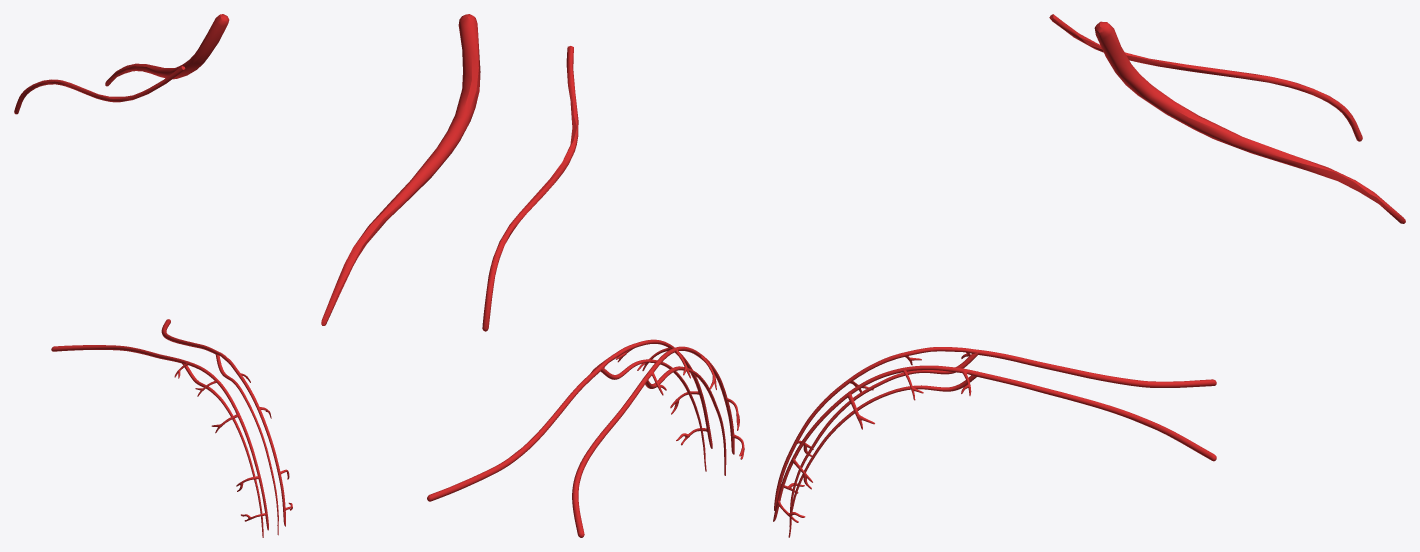
Rendered from arteries.pelvis.glb.
3 renders of one model, left to right at view 1: azimuth 30°, elevation 25°; view 2: azimuth 150°, elevation 25°; view 3: azimuth 270°, elevation 25°, orthographic. The views are drawn at different scales.
Parts seen in each view (by area): view 1: right_dorsal_artery_of_penis, left_dorsal_artery_of_penis, left_internal_iliac_artery, superior_rectal_artery; view 2: left_internal_iliac_artery, left_dorsal_artery_of_penis, right_dorsal_artery_of_penis, superior_rectal_artery; view 3: left_internal_iliac_artery, left_dorsal_artery_of_penis, right_dorsal_artery_of_penis, superior_rectal_artery.
Part boxes in pixels (x1=…): right_dorsal_artery_of_penis: x1=51, y1=345, x2=268, y2=537; left_dorsal_artery_of_penis: x1=161, y1=319, x2=292, y2=535; left_internal_iliac_artery: x1=105, y1=14, x2=229, y2=86; superior_rectal_artery: x1=14, y1=66, x2=185, y2=114; left_internal_iliac_artery: x1=321, y1=14, x2=480, y2=325; left_dorsal_artery_of_penis: x1=427, y1=339, x2=712, y2=501; right_dorsal_artery_of_penis: x1=572, y1=346, x2=744, y2=537; superior_rectal_artery: x1=482, y1=46, x2=578, y2=331; left_internal_iliac_artery: x1=1094, y1=21, x2=1405, y2=223; left_dorsal_artery_of_penis: x1=773, y1=365, x2=1216, y2=537; right_dorsal_artery_of_penis: x1=774, y1=347, x2=1216, y2=526; superior_rectal_artery: x1=1049, y1=14, x2=1362, y2=141.
Size of the model in its own units: 0.0599 by 0.1768 by 0.1824.
